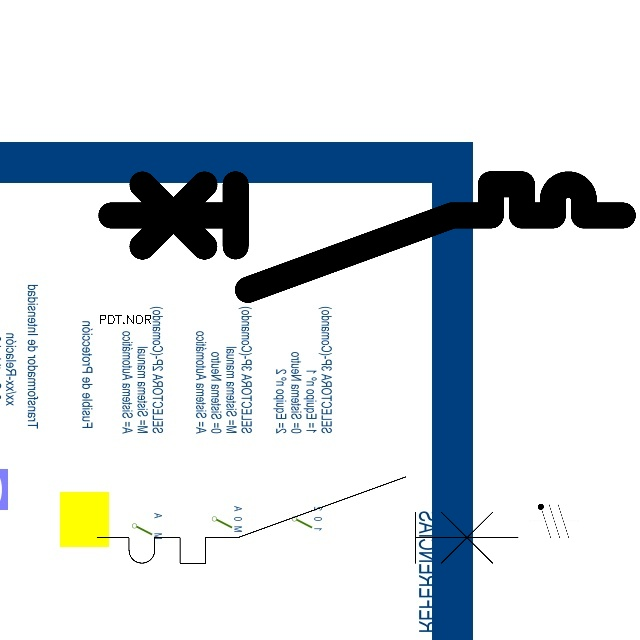interruptor_termomagnetico: (98, 171, 636, 302), (86, 466, 529, 574)
